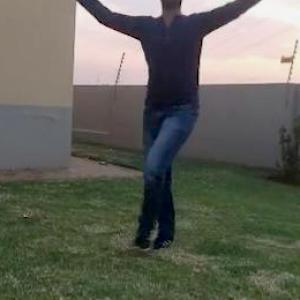takeoff: (67, 0, 299, 253)
